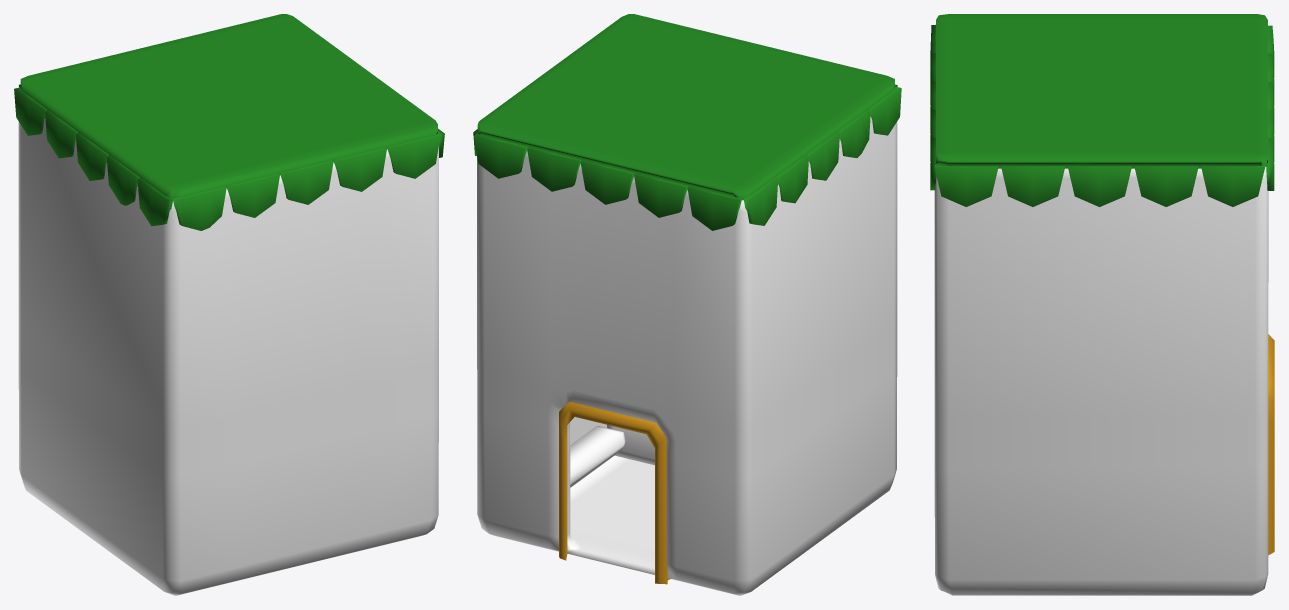
Rendered from HouseTallLow.fbx.
3 renders of one model, left to right at view 1: azimuth 30°, elevation 25°; view 2: azimuth 150°, elevation 25°; view 3: azimuth 270°, elevation 25°, orthographic. The views are drawn at different scales.
Visible parts, largest first — view 1: HouseTall2; view 2: HouseTall2; view 3: HouseTall2.
Part boxes in pixels (bbox=[...]): HouseTall2: bbox=[14, 14, 444, 595]; HouseTall2: bbox=[473, 14, 901, 595]; HouseTall2: bbox=[930, 14, 1274, 595].
Size of the model in its own units: 2.19 by 3.1 by 2.17.
Materials: 1 (1 with a texture image).
